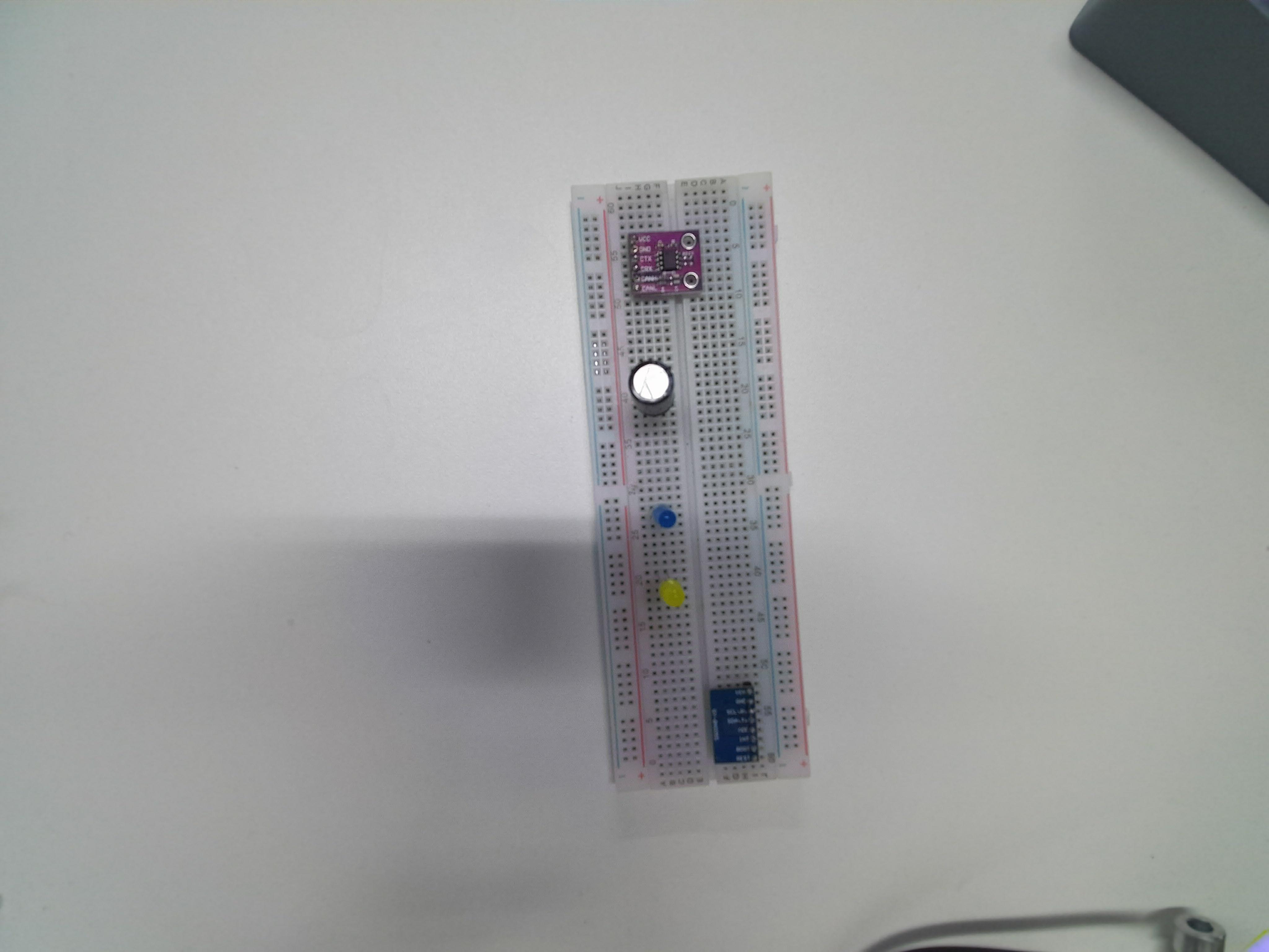base: (570, 172, 810, 800)
blue-board: (703, 679, 762, 770)
blue-led: (651, 505, 678, 530)
capacitor: (630, 361, 672, 410)
purple-board: (623, 225, 703, 299)
yellow-led: (654, 577, 688, 614)
